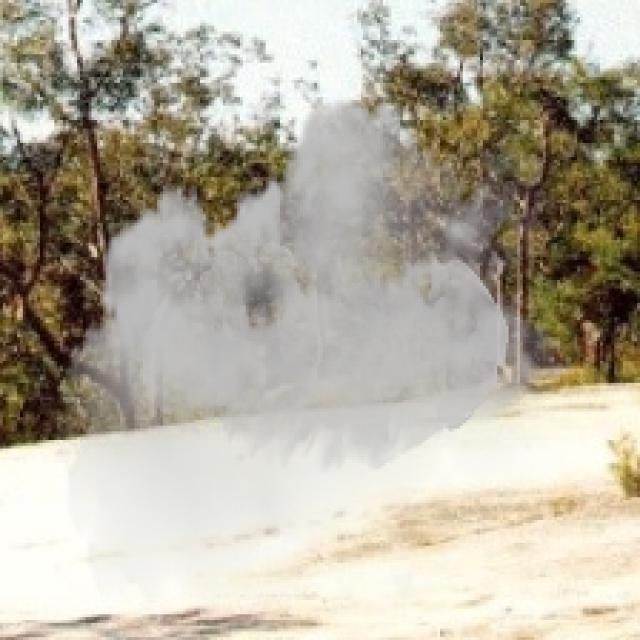Smoke: (57, 77, 577, 626)
